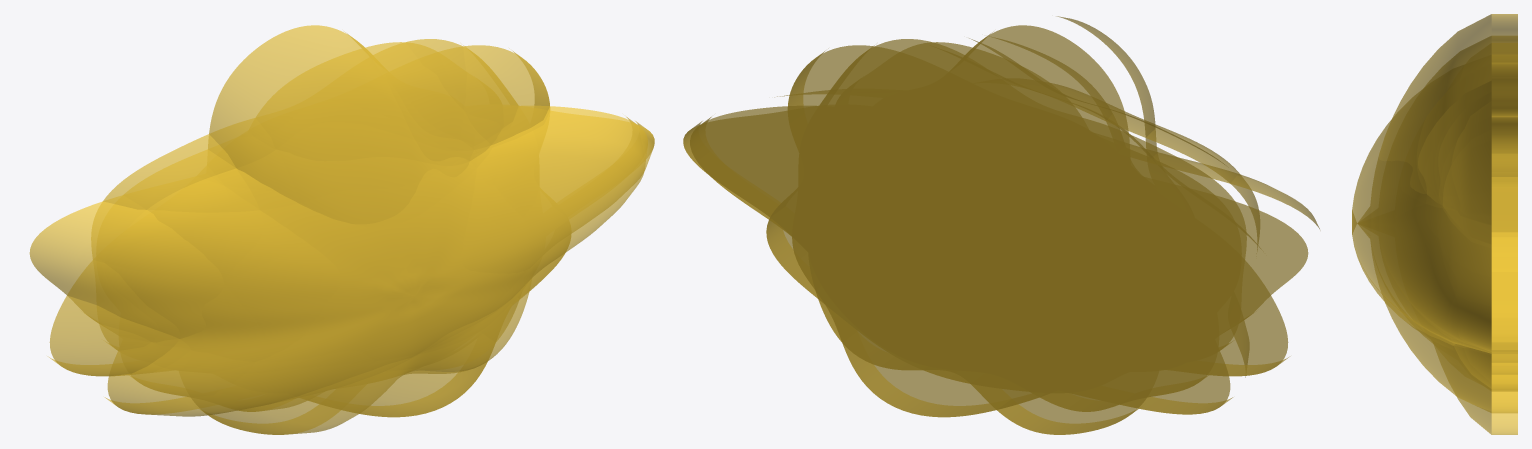
The model's file is latch-slug-splat.glb.
The picture shows the model from 3 angles, left to right: view 1: azimuth 30°, elevation 25°; view 2: azimuth 150°, elevation 25°; view 3: azimuth 270°, elevation 25°; orthographic projection. The views are drawn at different scales.
Visible parts, largest first — view 1: Slug adhesive variant 0, Slug adhesive variant 1, Slug adhesive variant 4, Slug adhesive variant 3, Slug adhesive variant 5, Slug adhesive variant 2; view 2: Slug adhesive variant 0, Slug adhesive variant 1, Slug adhesive variant 2, Slug adhesive variant 3, Slug adhesive variant 4, Slug adhesive variant 5; view 3: Slug adhesive variant 1, Slug adhesive variant 0, Slug adhesive variant 4, Slug adhesive variant 3, Slug adhesive variant 5, Slug adhesive variant 2.
Boxes of the visible parts, box(x1,y1,x2,y2) form: Slug adhesive variant 0: box(104, 106, 647, 416); Slug adhesive variant 1: box(191, 25, 532, 434); Slug adhesive variant 4: box(29, 106, 654, 361); Slug adhesive variant 3: box(91, 39, 518, 417); Slug adhesive variant 5: box(129, 42, 511, 411); Slug adhesive variant 2: box(47, 45, 570, 376); Slug adhesive variant 0: box(690, 83, 1259, 414); Slug adhesive variant 1: box(808, 16, 1180, 434); Slug adhesive variant 2: box(766, 45, 1290, 393); Slug adhesive variant 3: box(792, 38, 1246, 417); Slug adhesive variant 4: box(683, 104, 1320, 371); Slug adhesive variant 5: box(808, 38, 1219, 411); Slug adhesive variant 1: box(1358, 14, 1517, 413); Slug adhesive variant 0: box(1352, 55, 1517, 362); Slug adhesive variant 4: box(1360, 36, 1517, 374); Slug adhesive variant 3: box(1434, 43, 1517, 434); Slug adhesive variant 5: box(1417, 62, 1517, 390); Slug adhesive variant 2: box(1439, 78, 1517, 391).
Bounding box in the file's own units: 0.2981 × 0.1901 × 0.0809.
